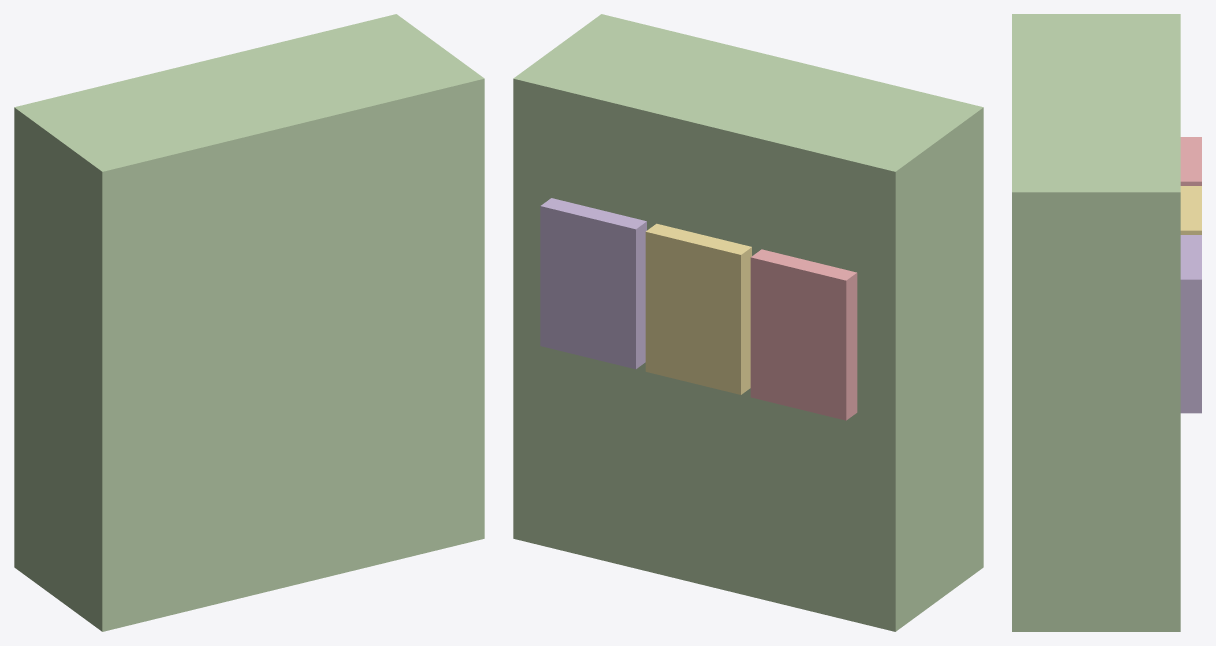
The model's file is seed-pack.glb.
3 views of the same model, side by side, from view 1: azimuth 30°, elevation 25°; view 2: azimuth 150°, elevation 25°; view 3: azimuth 270°, elevation 25° (orthographic). The views are drawn at different scales.
Visible parts, largest first — view 1: seed-pack; view 2: seed-pack; view 3: seed-pack.
Part boxes in pixels (box(x1,y1,x2,y2)): seed-pack: box(14, 14, 484, 631); seed-pack: box(513, 14, 983, 631); seed-pack: box(1012, 14, 1201, 631).
Bounding box in the file's own units: 0.4 × 0.46 × 0.18.
